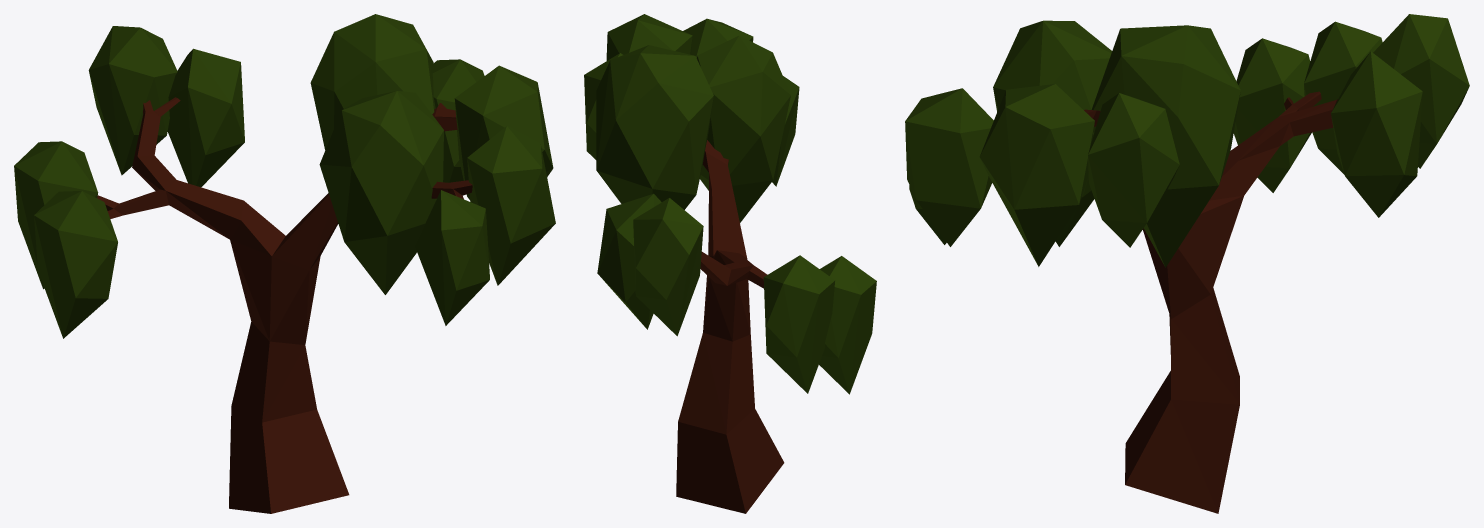
The model's file is Willow2.fbx.glb.
3 renders of one model, left to right at view 1: azimuth 30°, elevation 25°; view 2: azimuth 150°, elevation 25°; view 3: azimuth 270°, elevation 25°, orthographic. The views are drawn at different scales.
Visible parts, largest first — view 1: Willow2; view 2: Willow2; view 3: Willow2.
Boxes of the visible parts, x1,y1,x2,y2 form: Willow2: (14, 14, 555, 513); Willow2: (584, 14, 876, 513); Willow2: (905, 14, 1469, 513).
Bounding box in the file's own units: 341 × 392 × 387.
